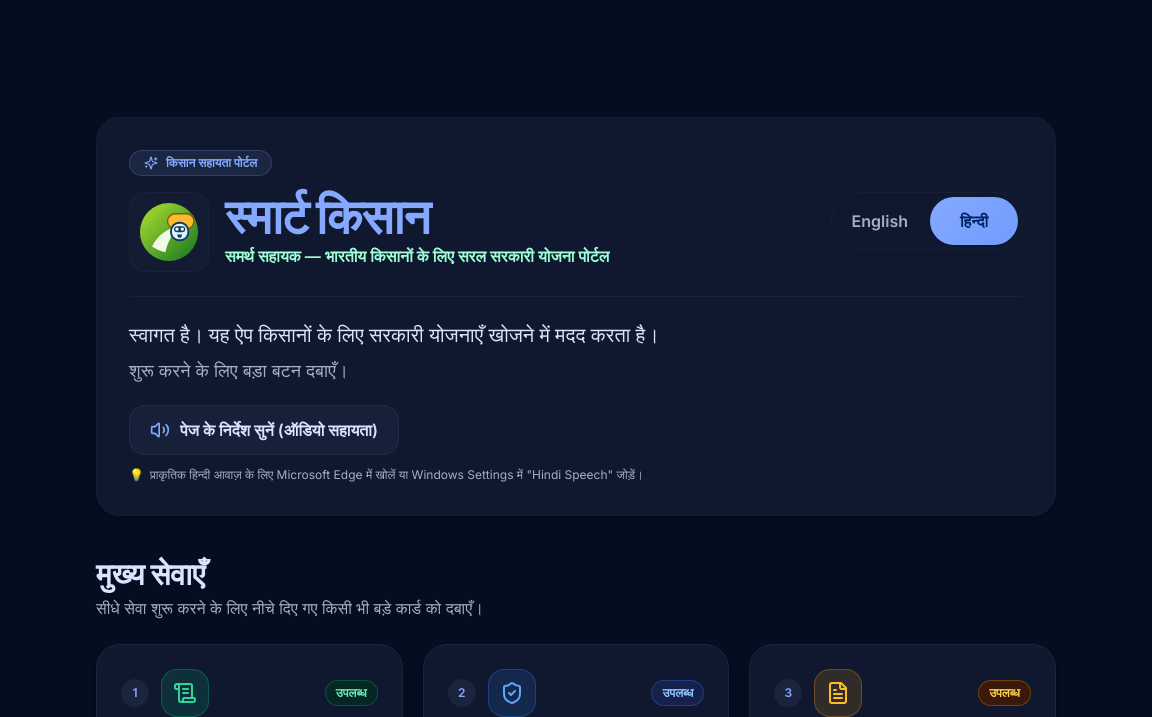
Test case: Phase 1 — Feature 2: Hindi-English Language Switching › switches back to English immediately and updates localStorage
Click the button "English": (880, 221) [836,197,924,245]
(page scrolled)
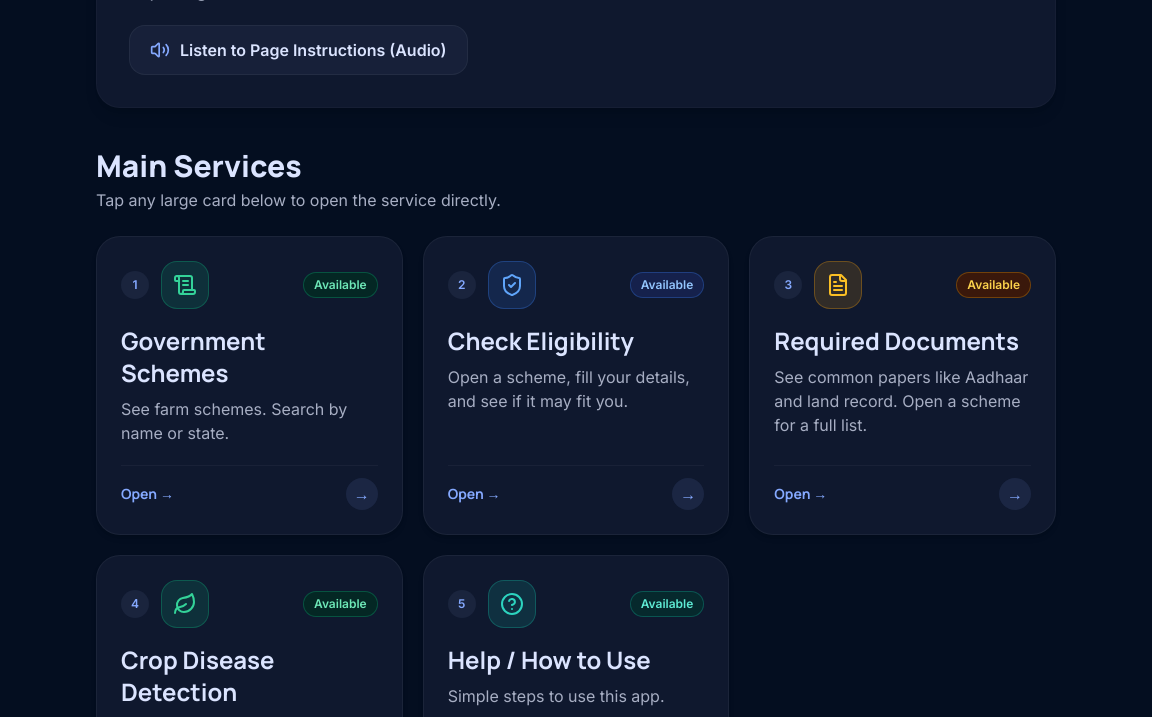
expect the heading "Government Schemes" is shown: met, box [121,324,266,389]
